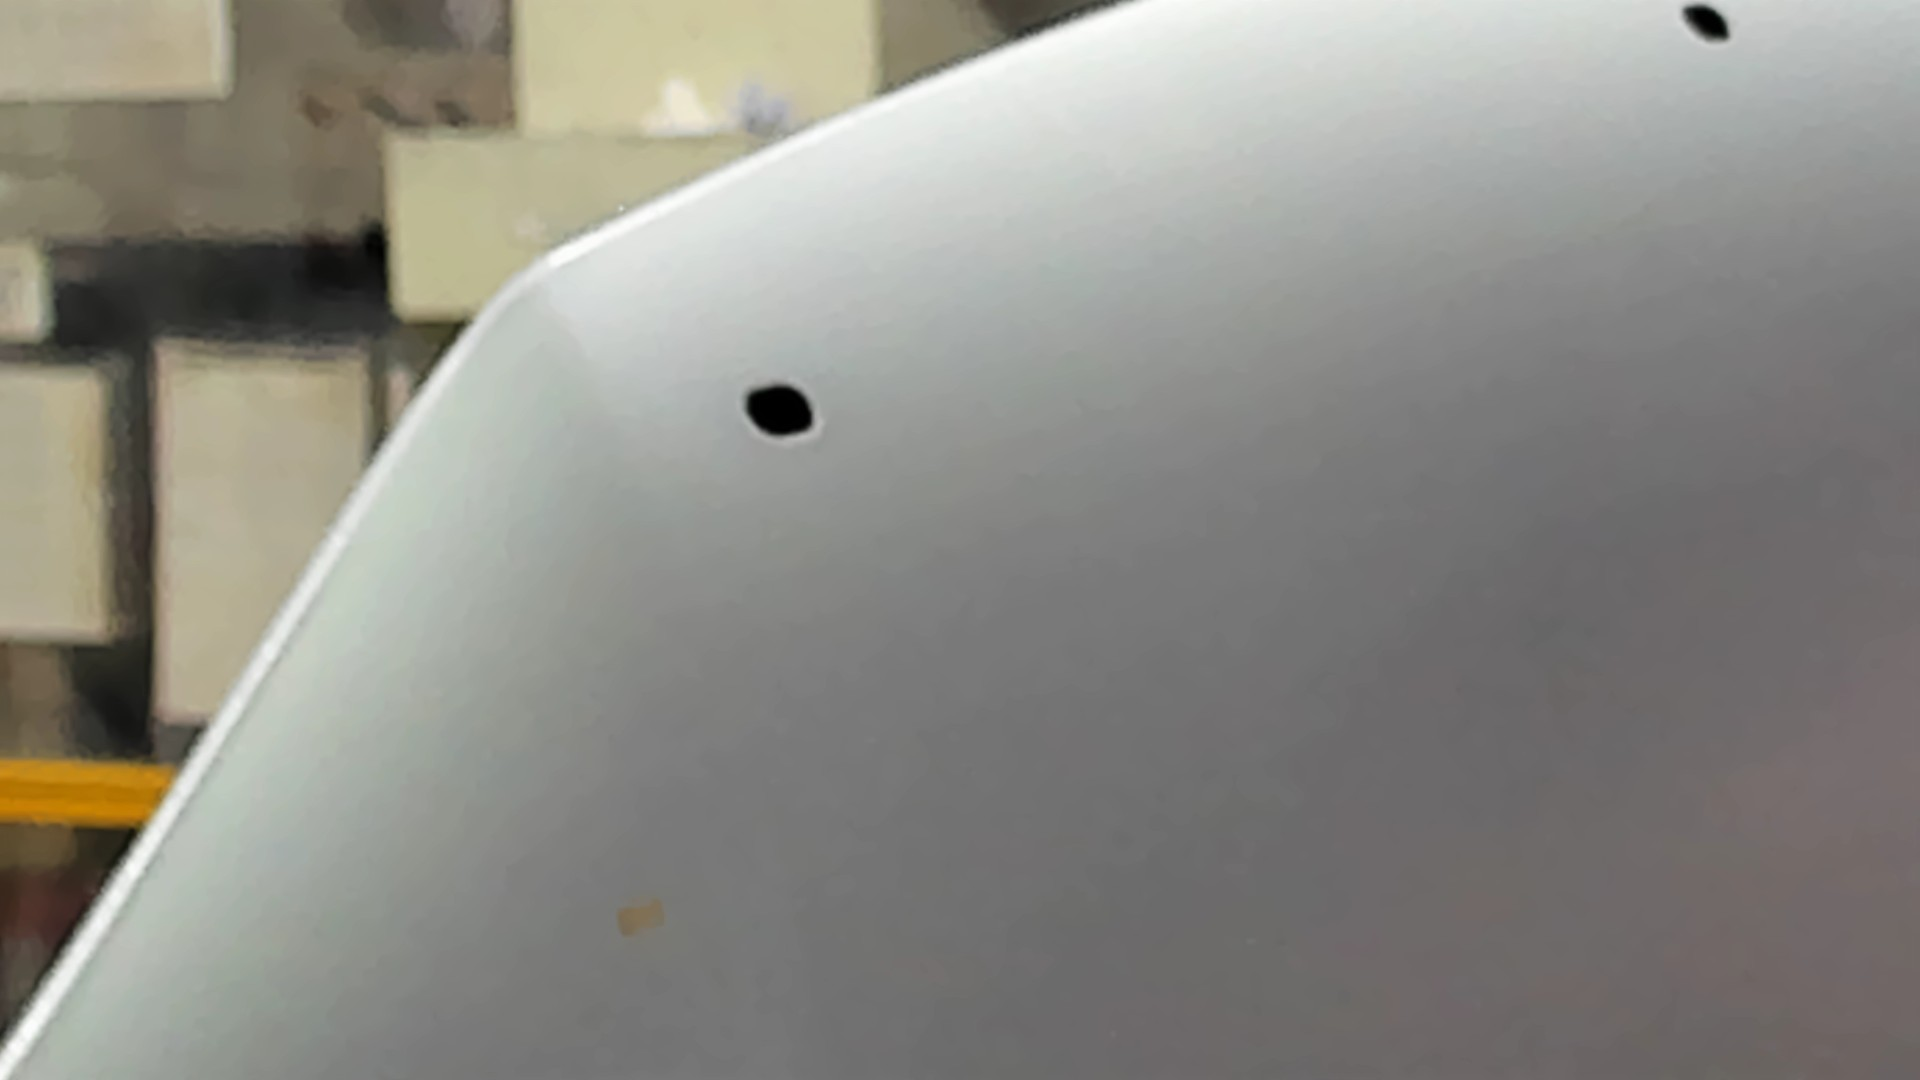amorfo: (738, 381, 819, 442), (1677, 1, 1735, 46)
